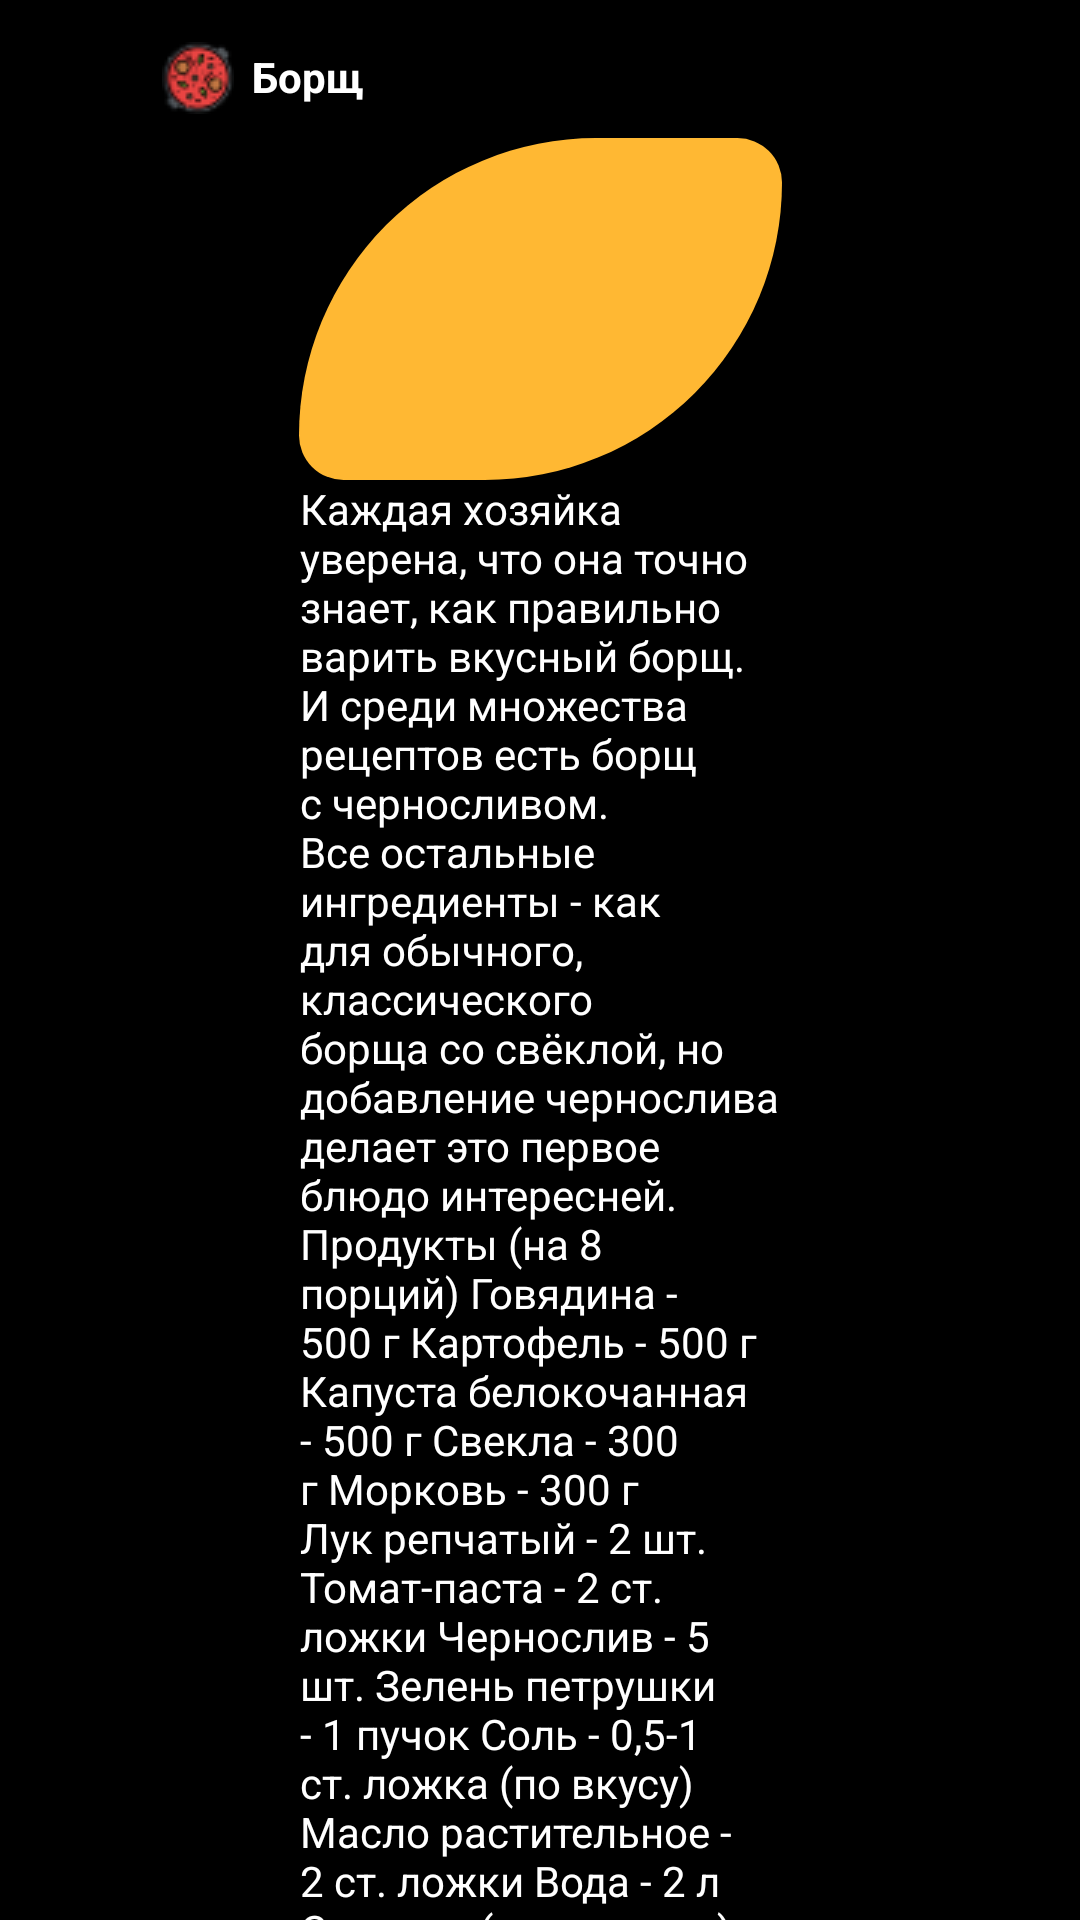

Named icons in this screenshot (1080 x 1920) and their centers, [x,y]:
meatball: [198,78]
